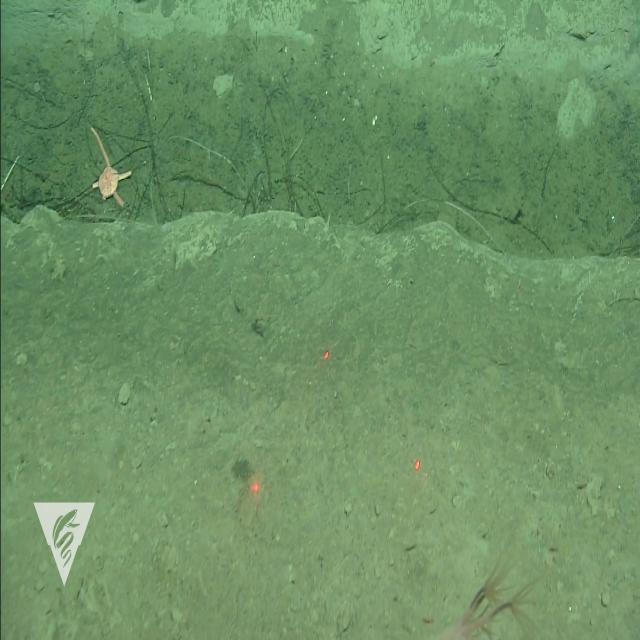Brittle Star: (94, 157, 122, 203)
